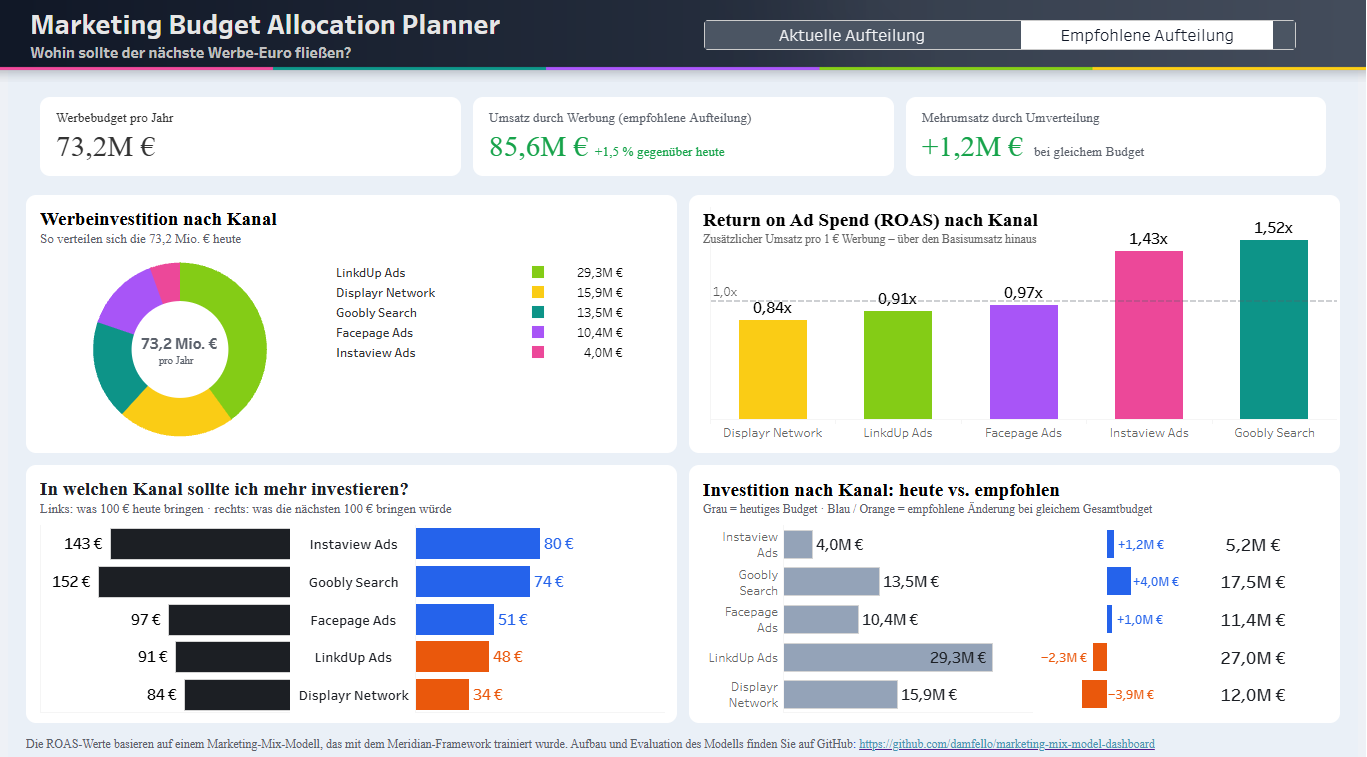

What the dashboard file says about the page in this screenshot:
{"tool":"tableau","page":{"name":"Budget Allocation Planner","canvas":[1366,768],"ordinal":0},"visuals":[{"type":"image","param":"Image/header.png","box":[0,0,1366,82]},{"type":"text","box":[30,0,650,65]},{"type":"worksheet","title":"Toggle","mark":"Automatic","rows":["Calculation_0943170231537667","Calculation_0943170232184838"],"cols":["Calculation_0943170230861825"],"box":[700,16,600,38]},{"type":"blank","box":[42,26,1282,57]},{"type":"worksheet","title":"KPI 1 Budget","mark":"Automatic","box":[34,91,649,91]},{"type":"worksheet","title":"KPI 2 Revenue","mark":"Automatic","box":[683,91,649,91]},{"type":"worksheet","title":"KPI 3 Gain","mark":"Automatic","box":[900,91,432,91]},{"type":"blank","box":[26,182,1314,18]},{"type":"blank","box":[26,195,651,258]},{"type":"blank","box":[689,195,651,258]},{"type":"worksheet","title":"V2 ROAS","mark":"Bar","rows":["Calculation_0986875473518596"],"cols":["channel"],"box":[698,195,651,258]},{"type":"blank","box":[26,200,1314,18]},{"type":"text","box":[40,205,623,44]},{"type":"text","box":[703,205,623,44]},{"type":"worksheet","title":"V1 Donut","mark":"Pie","rows":["Calculation_0986875473813513","Calculation_0986875473813513"],"box":[40,252,280,195]},{"type":"worksheet","title":"V1 Legend","mark":"Shape","rows":["channel"],"box":[330,262,333,175]},{"type":"blank","box":[26,465,651,258]},{"type":"blank","box":[689,465,651,258]},{"type":"blank","box":[689,465,651,258]},{"type":"text","box":[40,475,623,44]},{"type":"text","box":[703,475,623,44]},{"type":"worksheet","title":"V3 Left","mark":"Bar","rows":["channel"],"cols":["Calculation_0986875473580037"],"box":[40,525,250,188]},{"type":"worksheet","title":"V3 Names","mark":"Text","rows":["channel"],"box":[290,525,125,188]},{"type":"worksheet","title":"V3 Right","mark":"Bar","rows":["channel"],"cols":["Calculation_0986875473637382"],"box":[415,525,250,188]},{"type":"worksheet","title":"V4 Spend","mark":"Bar","rows":["channel"],"cols":["annual_spend"],"box":[703,525,330,188]},{"type":"worksheet","title":"V4 Change","mark":"Automatic","rows":["channel"],"cols":["Calculation_0986875473461251","Calculation_0986875473813513"],"box":[1033,525,293,188]},{"type":"text","box":[26,730,1314,28]}]}

Visuals, with their boxes in screenshot pixels (x1, y1, x2, y2), scaled from the page's 1366x768 canvas onto the 1367x757 screenshot:
image: <region>0, 0, 1366, 81</region>
text: <region>30, 0, 680, 64</region>
"Toggle" worksheet: <region>701, 16, 1301, 53</region>
blank: <region>42, 26, 1325, 82</region>
"KPI 1 Budget" worksheet: <region>34, 90, 684, 179</region>
"KPI 2 Revenue" worksheet: <region>684, 90, 1333, 179</region>
"KPI 3 Gain" worksheet: <region>901, 90, 1333, 179</region>
blank: <region>26, 179, 1341, 197</region>
blank: <region>26, 192, 677, 447</region>
blank: <region>690, 192, 1341, 447</region>
"V2 ROAS" worksheet (Bar marks): <region>699, 192, 1350, 447</region>
blank: <region>26, 197, 1341, 215</region>
text: <region>40, 202, 663, 245</region>
text: <region>704, 202, 1327, 245</region>
"V1 Donut" worksheet (Pie marks): <region>40, 248, 320, 441</region>
"V1 Legend" worksheet (Shape marks): <region>330, 258, 663, 431</region>
blank: <region>26, 458, 677, 713</region>
blank: <region>690, 458, 1341, 713</region>
blank: <region>690, 458, 1341, 713</region>
text: <region>40, 468, 663, 512</region>
text: <region>704, 468, 1327, 512</region>
"V3 Left" worksheet (Bar marks): <region>40, 517, 290, 703</region>
"V3 Names" worksheet (Text marks): <region>290, 517, 415, 703</region>
"V3 Right" worksheet (Bar marks): <region>415, 517, 665, 703</region>
"V4 Spend" worksheet (Bar marks): <region>704, 517, 1034, 703</region>
"V4 Change" worksheet: <region>1034, 517, 1327, 703</region>
text: <region>26, 720, 1341, 747</region>
